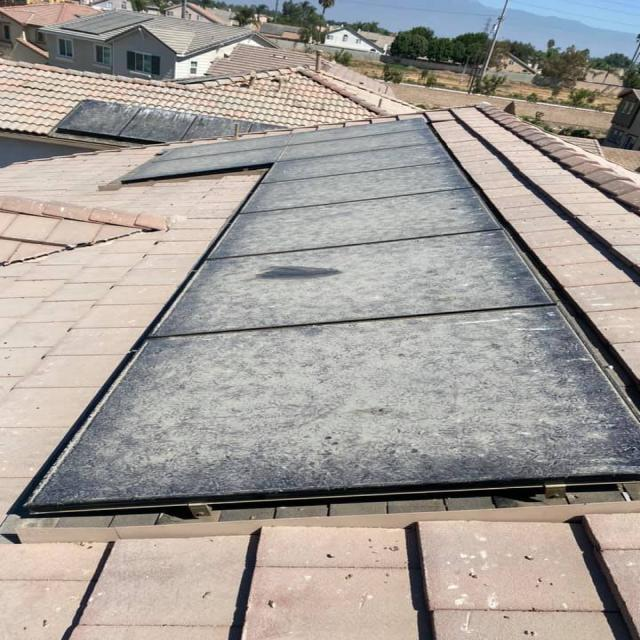dust-solar-panel: (19, 117, 640, 509)
